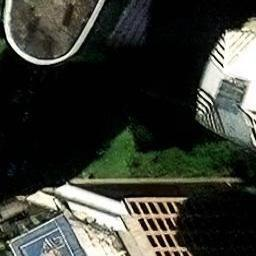heliponto: (20, 227, 74, 255)
